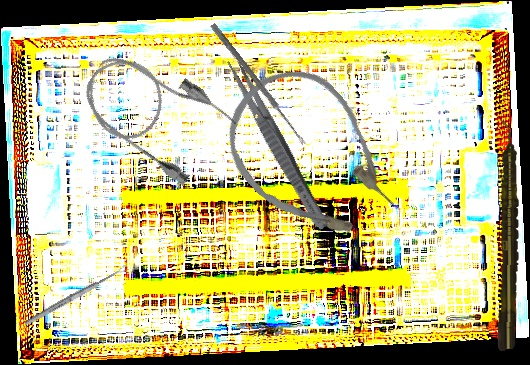Cannula: (203, 47, 421, 270), (69, 34, 242, 191)
Dressing Forceps: (221, 55, 333, 233)
Handpiece: (495, 119, 522, 353)
Surgical Spoon: (209, 22, 308, 147), (23, 264, 130, 327)
